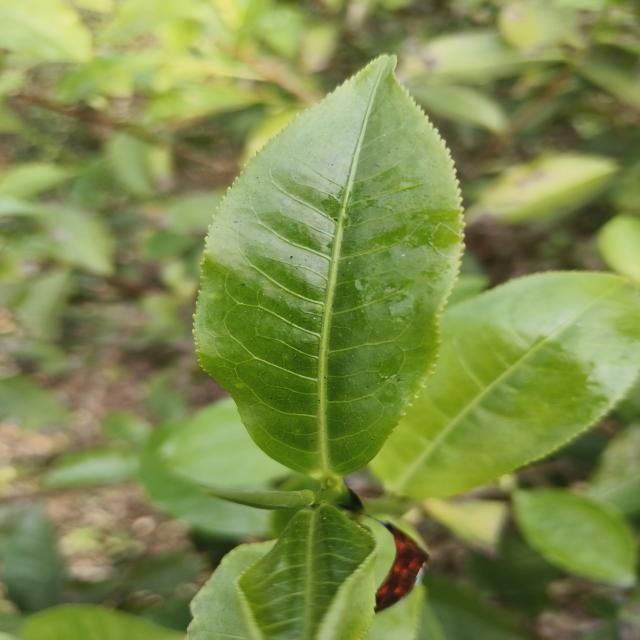Leaf: (195, 56, 461, 480), (372, 271, 640, 498), (239, 503, 377, 640), (512, 488, 637, 586), (160, 398, 289, 489), (466, 153, 617, 222), (404, 30, 560, 83), (3, 505, 66, 613), (0, 0, 92, 62), (406, 79, 508, 133), (48, 205, 114, 275), (145, 83, 258, 122), (59, 55, 148, 103), (15, 268, 71, 340), (42, 447, 139, 488), (0, 376, 69, 428)
